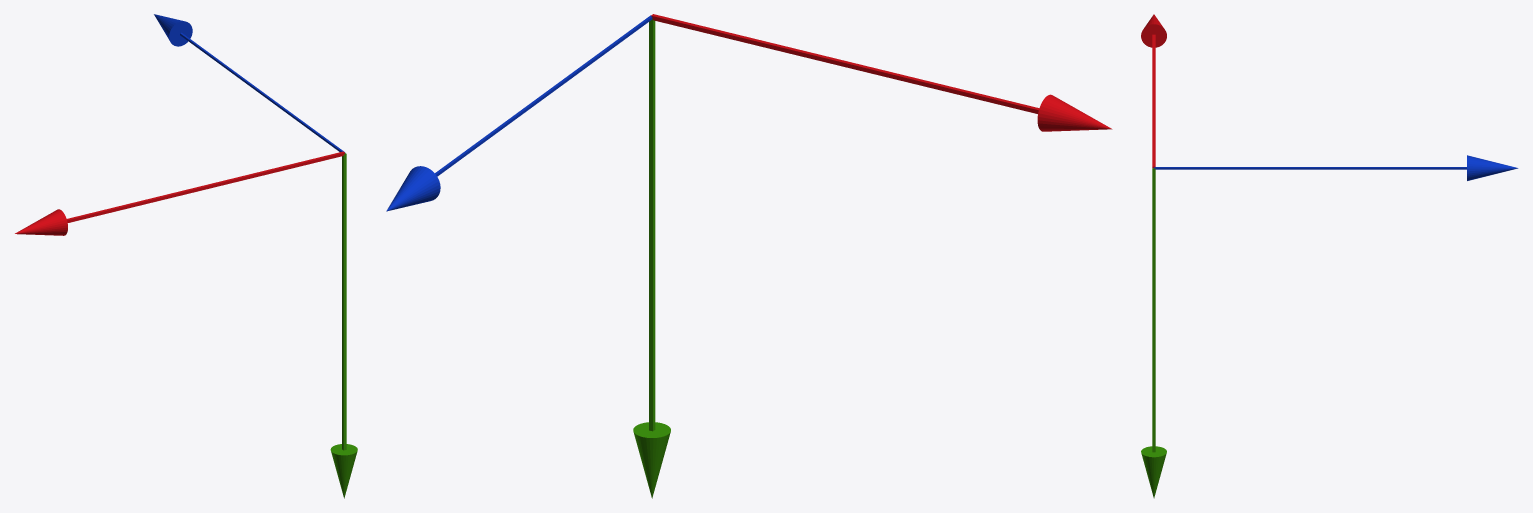
File: oxygizmo.obj
The picture shows the model from 3 angles, left to right: view 1: azimuth 30°, elevation 25°; view 2: azimuth 150°, elevation 25°; view 3: azimuth 270°, elevation 25°; orthographic projection. The views are drawn at different scales.
Parts seen in each view (by area): view 1: Green_Cone.003, Red_Cone.002, Blue_Cone.011; view 2: Green_Cone.003, Red_Cone.002, Blue_Cone.011; view 3: Green_Cone.003, Blue_Cone.011, Red_Cone.002.
Part boxes in pixels (x1,y1,x2,y2): Green_Cone.003: [330, 153, 357, 498]; Red_Cone.002: [15, 151, 344, 235]; Blue_Cone.011: [154, 14, 345, 152]; Green_Cone.003: [633, 18, 670, 498]; Red_Cone.002: [651, 14, 1112, 131]; Blue_Cone.011: [386, 15, 652, 211]; Green_Cone.003: [1141, 168, 1166, 498]; Blue_Cone.011: [1154, 155, 1518, 180]; Red_Cone.002: [1141, 14, 1166, 168].
Bounding box in the file's own units: 2.9 × 2.9 × 2.9.
